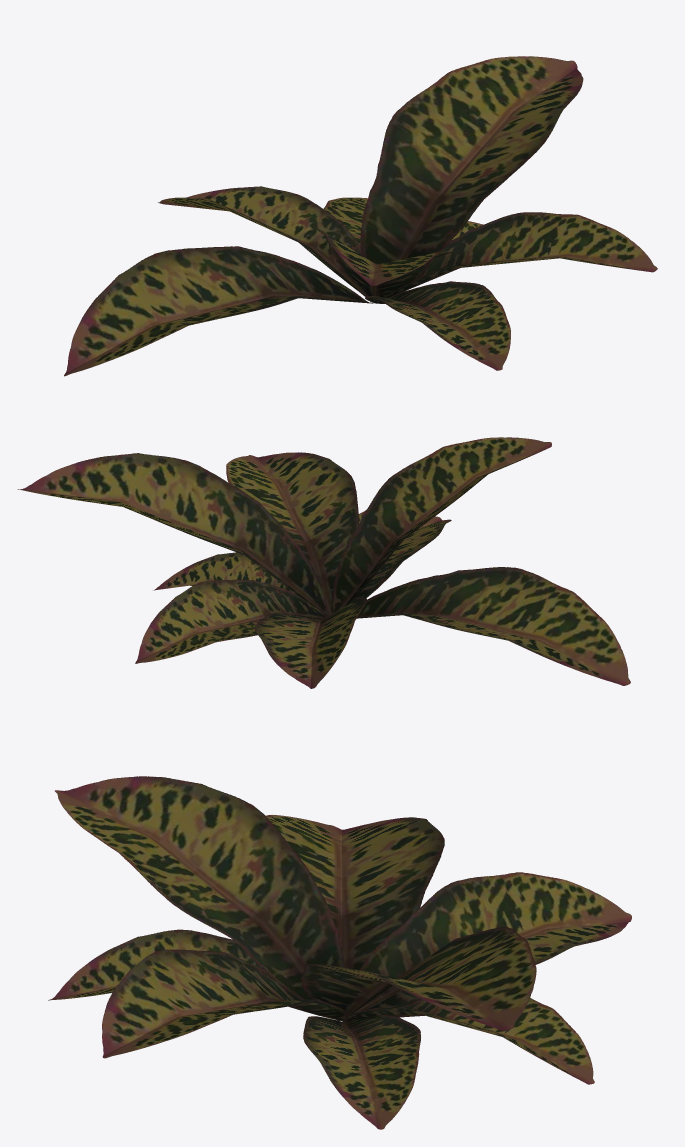
3 renders of one model, top to bottom at view 1: azimuth 30°, elevation 25°; view 2: azimuth 150°, elevation 25°; view 3: azimuth 270°, elevation 25°, orthographic. The views are drawn at different scales.
Parts seen in each view (by area): view 1: body0_model0_lod0_mesh0; view 2: body0_model0_lod0_mesh0; view 3: body0_model0_lod0_mesh0.
Boxes of the visible parts, x1,y1,x2,y2 form: body0_model0_lod0_mesh0: (64, 56, 657, 376); body0_model0_lod0_mesh0: (17, 437, 630, 688); body0_model0_lod0_mesh0: (48, 776, 631, 1129).
Size of the model in its own units: 174 by 45.66 by 132.
1 material, 1 textured.
